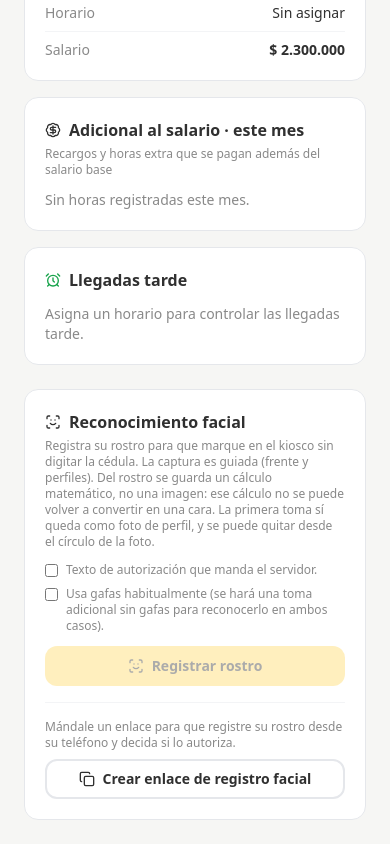
Test: el enlace de registro › crea el enlace, muestra la dirección y copia el mensaje con la hora de vencimiento
(page scrolled)
Expected: the heading "Reconocimiento facial" is shown, [45,410,246,434]
Click the button "Crear enlace de registro facial" at (195, 778), box [45,758,345,798]
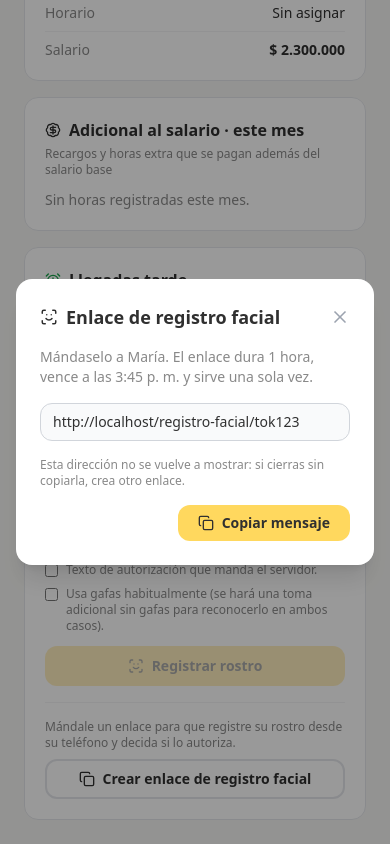
Click the button "Copiar mensaje" at (264, 523), box [178,505,350,541]
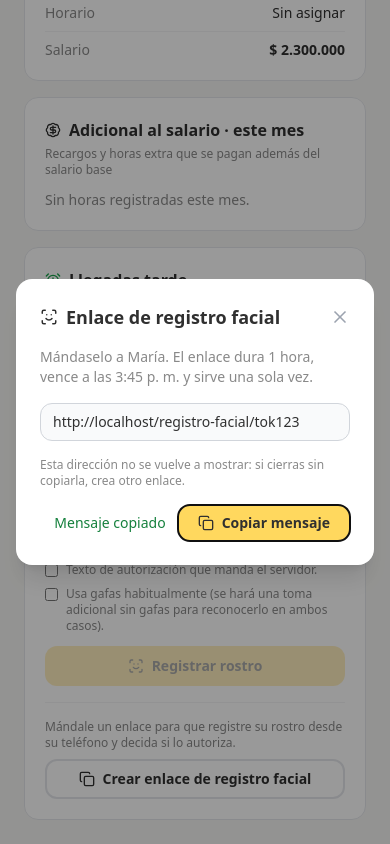
Now the text "Mensaje copiado" is shown, box [54,513,166,533]
